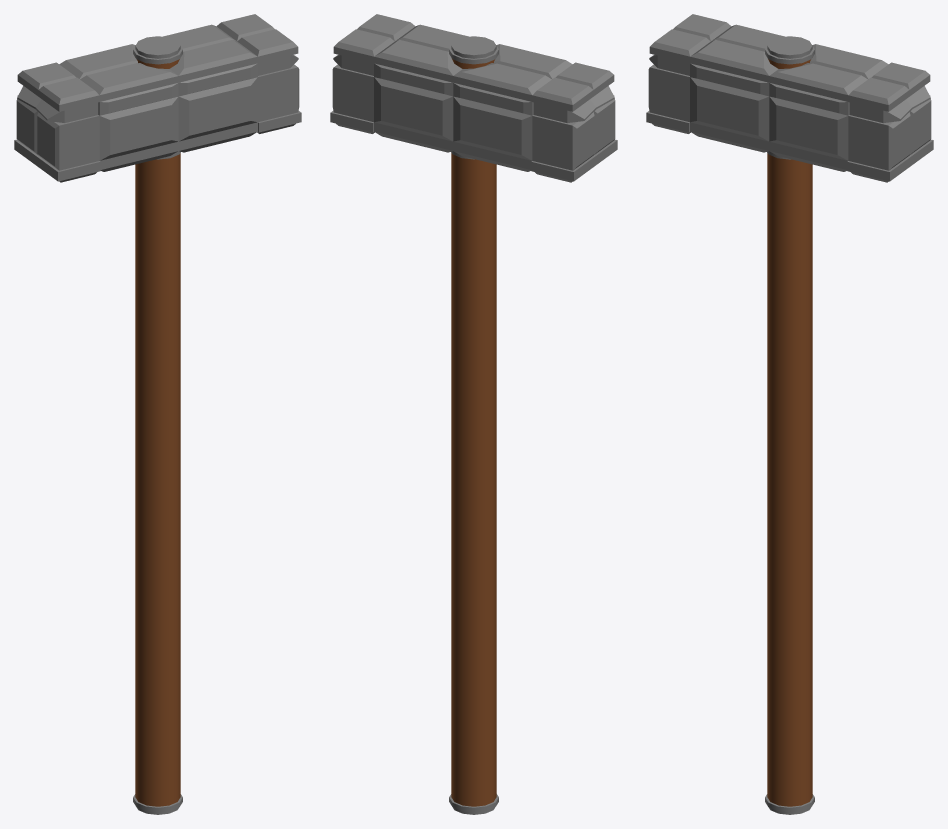
The model's file is hammer.gltf.
3 views of the same model, side by side, from view 1: azimuth 30°, elevation 25°; view 2: azimuth 150°, elevation 25°; view 3: azimuth 330°, elevation 25° (orthographic).
Visible parts, largest first — view 1: Hammer; view 2: Hammer; view 3: Hammer.
Part boxes in pixels (x1=…): Hammer: x1=14, y1=14, x2=301, y2=814; Hammer: x1=330, y1=14, x2=617, y2=814; Hammer: x1=646, y1=14, x2=933, y2=814.
Bounding box in the file's own units: 0.5533 × 1.6 × 0.1725.
